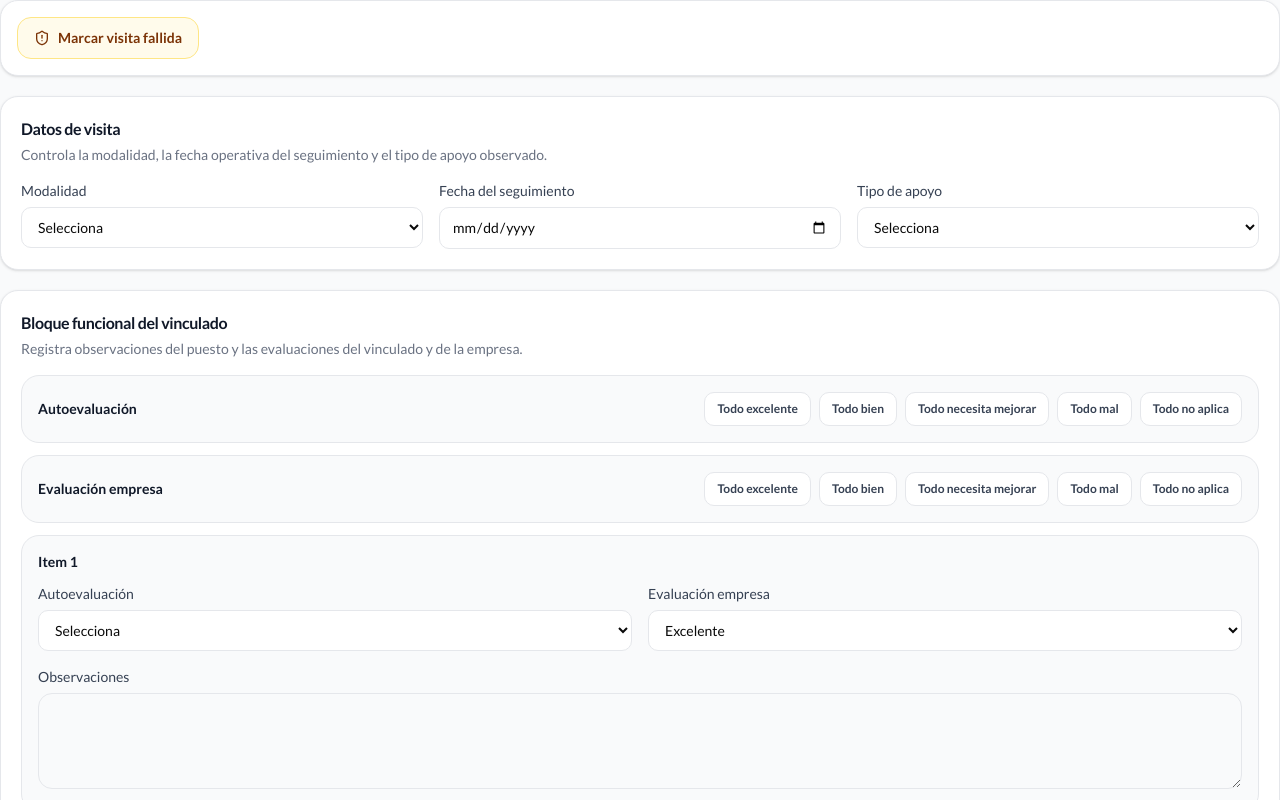
Test: SeguimientosFollowupStageEditor › applies a bulk value to all evaluacion empresa fields
The width and height of the screenshot is (1280, 800).
Click the button with test id "seguimientos-followup-bulk-item_eval_empresa-bien" at (858, 489), box x1=819 y1=472 x2=897 y2=506
(page scrolled)
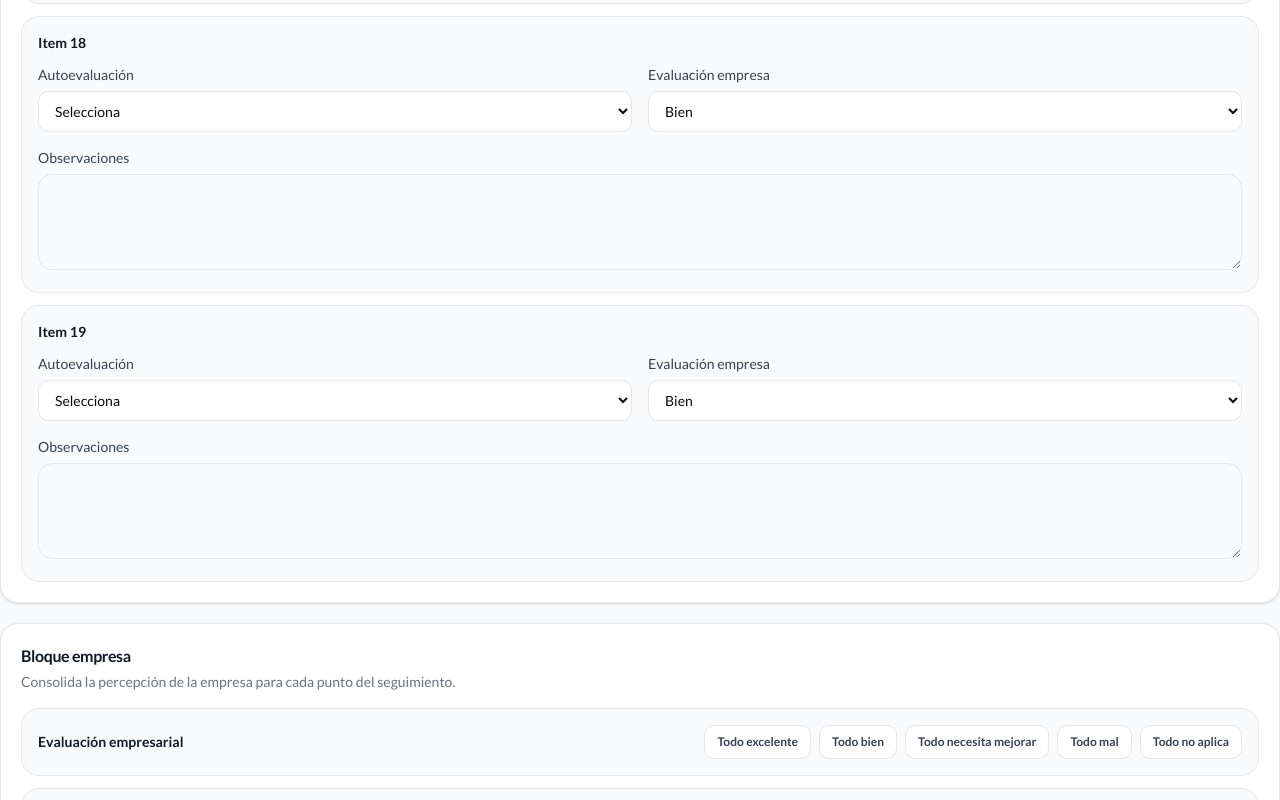
Check: the dropdown with id "item_eval_empresa" shows "Bien", box x1=648 y1=380 x2=1242 y2=421
